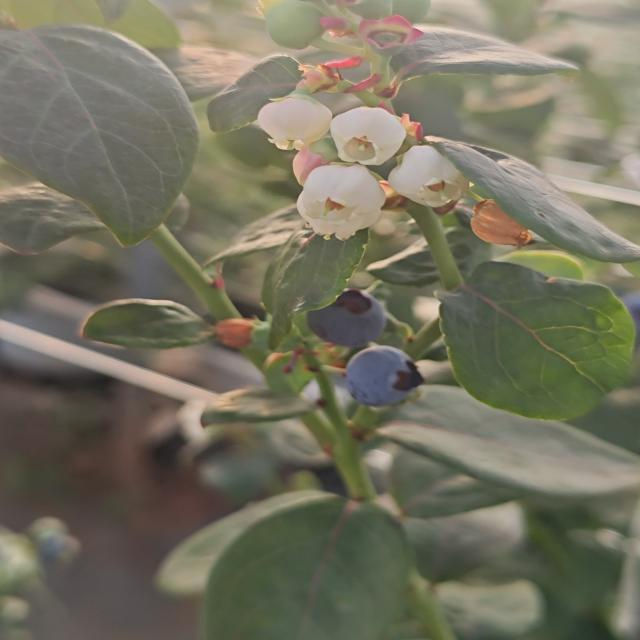ripe: (324, 342, 420, 407), (310, 288, 390, 350)
